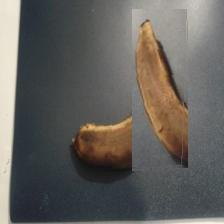Banana Rotten: (133, 10, 189, 169), (69, 97, 173, 172)
